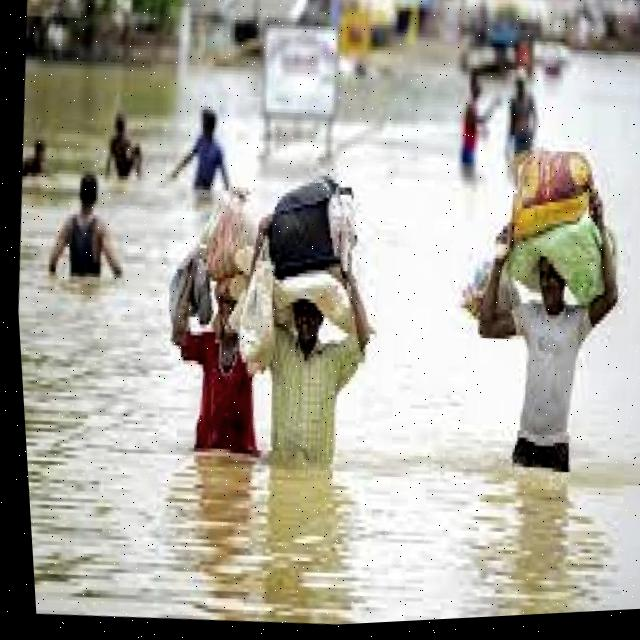civilian: (447, 242, 637, 481), (234, 280, 391, 478), (158, 288, 272, 469), (37, 159, 136, 289), (170, 98, 245, 205), (494, 63, 558, 180), (432, 66, 495, 178), (95, 101, 164, 194), (17, 119, 59, 197)
